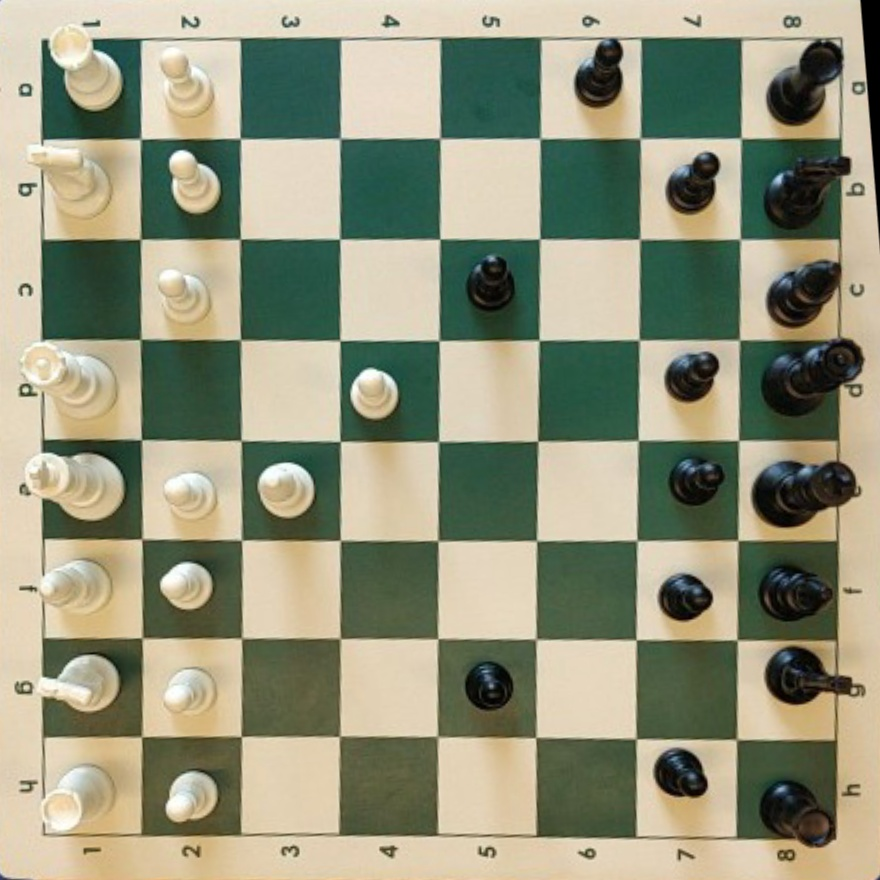black-bishop: (768, 260, 841, 326), (759, 564, 833, 621)
black-king: (754, 460, 858, 526)
black-knight: (765, 155, 850, 228), (766, 648, 865, 704)
black-pawn: (575, 38, 624, 105), (667, 152, 720, 212), (654, 749, 709, 798), (665, 352, 720, 401), (467, 255, 515, 310), (670, 456, 725, 504), (659, 573, 713, 620), (465, 661, 514, 710)
black-queen: (763, 339, 864, 415)
black-rook: (768, 40, 842, 124), (760, 779, 834, 847)
white-bishop: (37, 559, 111, 613), (257, 462, 315, 519)
white-king: (20, 451, 125, 520)
white-knight: (22, 142, 111, 217), (63, 662, 117, 718)
white-pawn: (160, 50, 214, 117), (167, 149, 221, 214), (164, 770, 218, 824), (157, 268, 208, 322), (159, 560, 213, 610), (162, 470, 216, 520), (350, 368, 399, 419), (163, 667, 215, 714)
white-queen: (19, 344, 117, 418)
white-rook: (49, 27, 123, 112), (40, 764, 114, 834)
